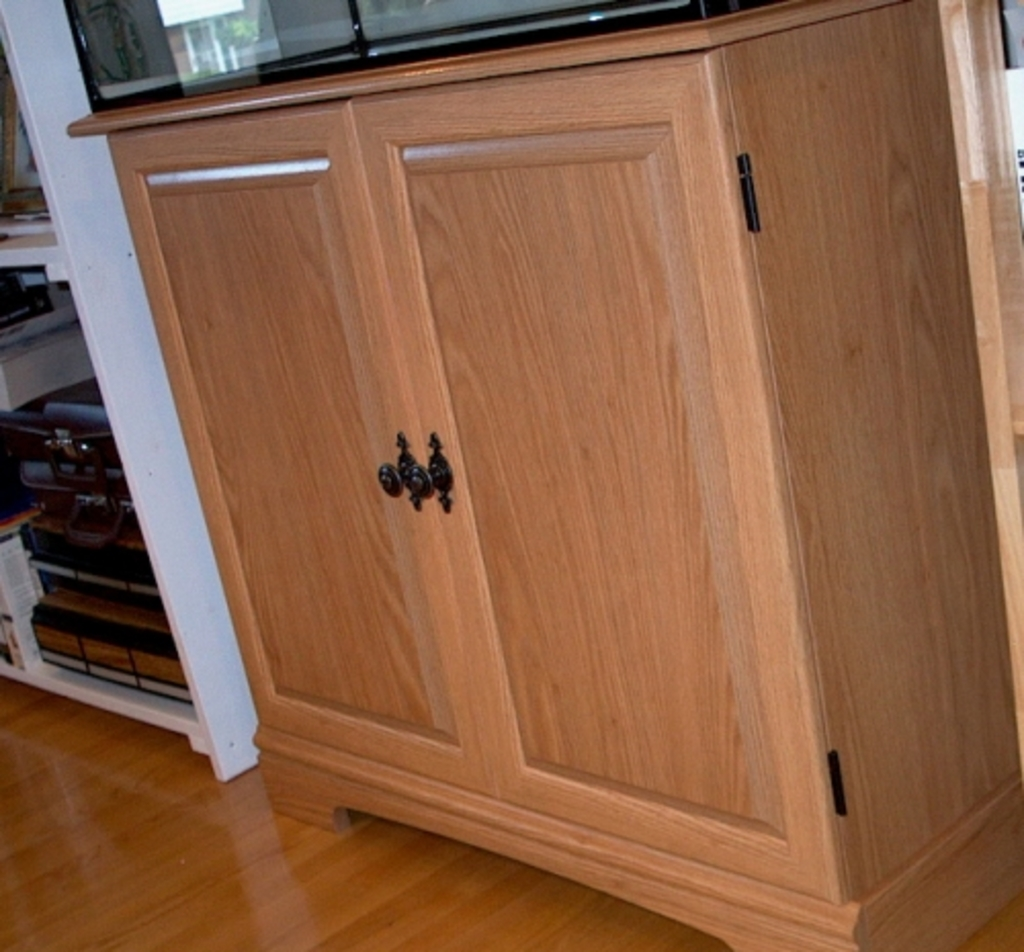cabinet door: (379, 104, 747, 772), (142, 144, 410, 713)
handle: (409, 455, 446, 512), (376, 456, 411, 508)
